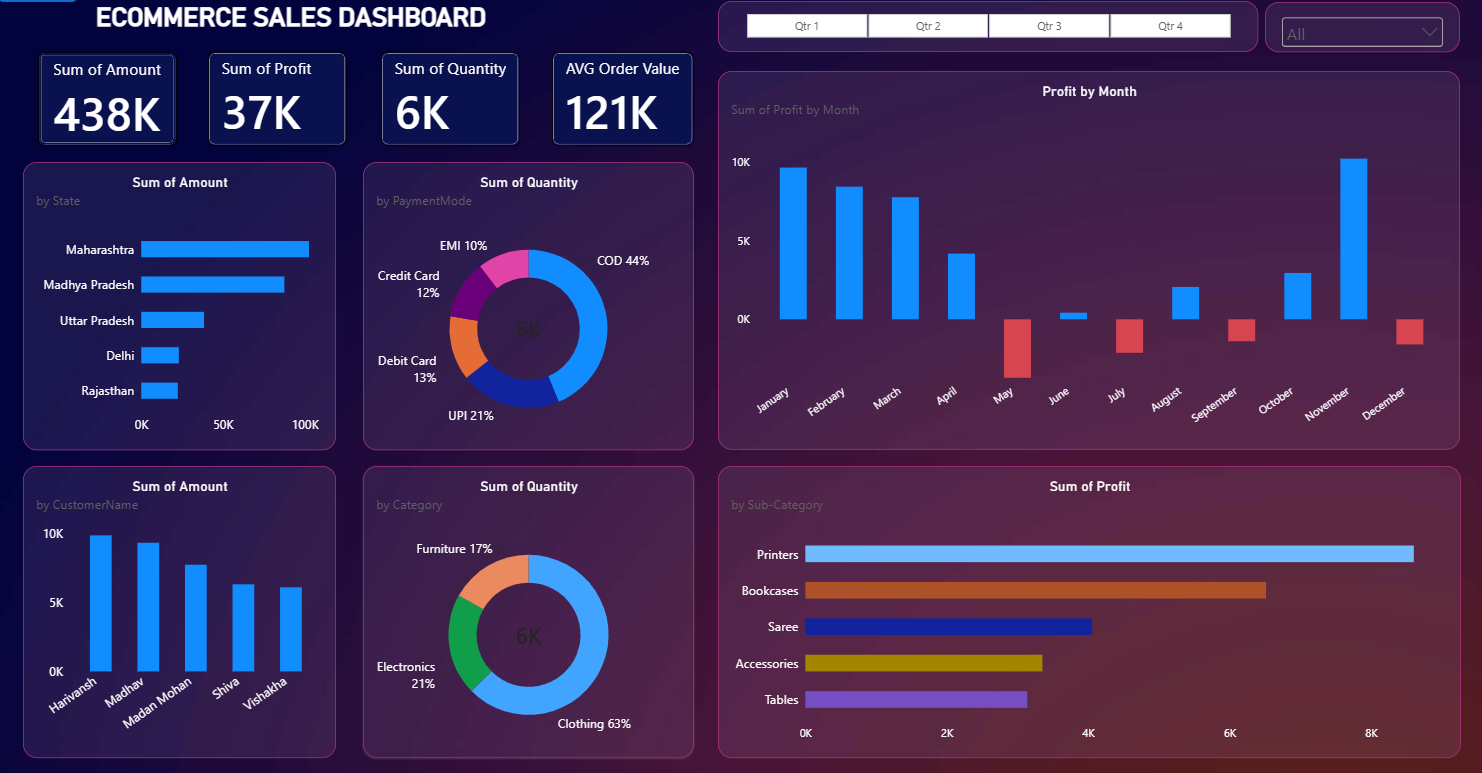

The page's visual inventory and layout, read from the dashboard file:
{"tool":"powerbi","page":{"name":"Page 1","canvas":[1920,1080],"ordinal":0},"visuals":[{"type":"columnChart","title":"Profit by Month","fields":{"Category":["Orders.Order Date.Variation.Date Hierarchy.Month"],"Y":["Sum(Details.Profit)"]},"box":[930.2,129.4,960,490.4],"z":0},{"type":"barChart","fields":{"Category":["Details.Sub-Category"],"Y":["Sum(Details.Profit)"]},"box":[930.2,640.4,961.3,377.8],"z":1000},{"type":"textbox","title":"ECOMMERCE SALES DASHBOARD","box":[0,40.1,755.6,44],"z":2000},{"type":"donutChart","fields":{"Category":["Details.Category"],"Y":["Sum(Details.Quantity)"]},"box":[470.9,640.4,428.2,377.8],"z":3000},{"type":"actionButton","box":[0,0,100,40],"z":4000},{"type":"donutChart","fields":{"Category":["Details.PaymentMode"],"Y":["Sum(Details.Quantity)"]},"box":[470.9,247.1,428.2,372.6],"z":5000},{"type":"cardVisual","fields":{"Data":["Sum(Details.Amount)"]},"box":[50.5,104.8,179.8,121.6],"z":6000},{"type":"cardVisual","fields":{"Data":["Sum(Details.Profit)"]},"box":[270.4,104.8,179.8,121.6],"z":7000},{"type":"cardVisual","fields":{"Data":["Sum(Details.Quantity)"]},"box":[494.2,104.8,179.8,121.6],"z":8000},{"type":"cardVisual","fields":{"Data":["Sum(Details.AVG Order Value)"]},"box":[715.5,104.8,183.7,121.6],"z":9000},{"type":"barChart","fields":{"Category":["Orders.State"],"Y":["Sum(Details.Amount)"]},"box":[31.1,247.1,405,372.6],"z":10000},{"type":"columnChart","fields":{"Category":["Orders.CustomerName"],"Y":["Sum(Details.Amount)"]},"box":[31.1,640.4,405,377.8],"z":11000},{"type":"slicer","fields":{"Values":["Orders.Order Date.Variation.Date Hierarchy.Quarter"]},"box":[930.8,39.4,698.8,65.7],"z":12000},{"type":"slicer","fields":{"Values":["Orders.State"]},"box":[1638,40.1,252.3,64.7],"z":12001}]}

Visuals, with their boxes on the page's 1920x1080 design canvas (x1, y1, x2, y2). These are canvas units, not pixel positions in the 1482x773 screenshot, which may show the page scaled, cropped or inside an application window:
"Profit by Month" columnChart: box(930, 129, 1890, 620)
barChart - Details.Sub-Category x Sum(Details.Profit): box(930, 640, 1892, 1018)
"ECOMMERCE SALES DASHBOARD" textbox: box(0, 40, 756, 84)
donutChart - Details.Category x Sum(Details.Quantity): box(471, 640, 899, 1018)
actionButton: box(0, 0, 100, 40)
donutChart - Details.PaymentMode x Sum(Details.Quantity): box(471, 247, 899, 620)
cardVisual - Sum(Details.Amount): box(50, 105, 230, 226)
cardVisual - Sum(Details.Profit): box(270, 105, 450, 226)
cardVisual - Sum(Details.Quantity): box(494, 105, 674, 226)
cardVisual - Sum(Details.AVG Order Value): box(716, 105, 899, 226)
barChart - Orders.State x Sum(Details.Amount): box(31, 247, 436, 620)
columnChart - Orders.CustomerName x Sum(Details.Amount): box(31, 640, 436, 1018)
slicer - Orders.Order Date.Variation.Date Hierarchy.Quarter: box(931, 39, 1630, 105)
slicer - Orders.State: box(1638, 40, 1890, 105)
